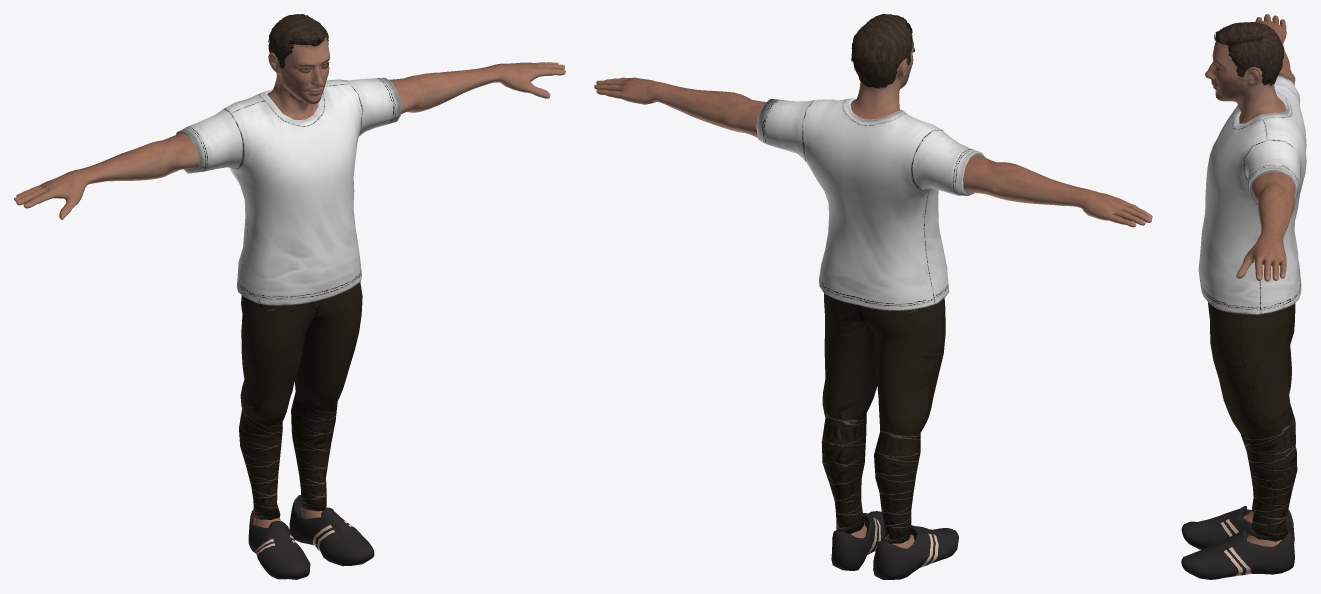
Rendered from Male 2.obj.
3 views of the same model, side by side, from view 1: azimuth 30°, elevation 25°; view 2: azimuth 150°, elevation 25°; view 3: azimuth 270°, elevation 25° (orthographic).
Visible parts, largest first — view 1: Tops, Bottoms, Body, Shoes, Hair; view 2: Tops, Bottoms, Body, Shoes, Hair; view 3: Tops, Bottoms, Body, Shoes, Hair.
Part boxes in pixels (x1,y1,x2,y2): Tops: (176, 77, 401, 305); Bottoms: (239, 282, 362, 519); Body: (14, 37, 565, 527); Shoes: (248, 495, 374, 579); Hair: (268, 14, 328, 68); Tops: (756, 97, 985, 310); Bottoms: (821, 293, 945, 543); Body: (594, 38, 1152, 548); Shoes: (831, 511, 958, 579); Hair: (851, 14, 912, 88); Tops: (1198, 73, 1306, 314); Bottoms: (1208, 302, 1297, 541); Body: (1205, 14, 1295, 546); Shoes: (1181, 506, 1294, 579); Hair: (1214, 22, 1283, 85).
Size of the model in its own units: 194 by 182 by 38.45.
Materials: 5 (5 with a texture image).
